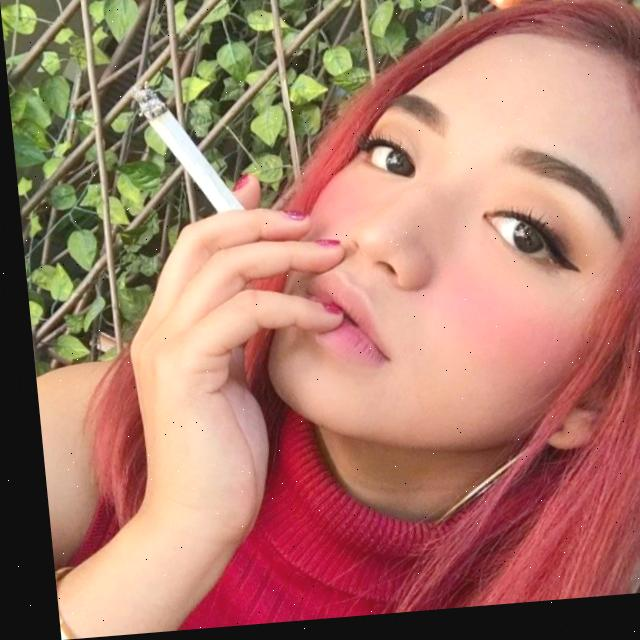cigarette: (132, 86, 241, 222)
